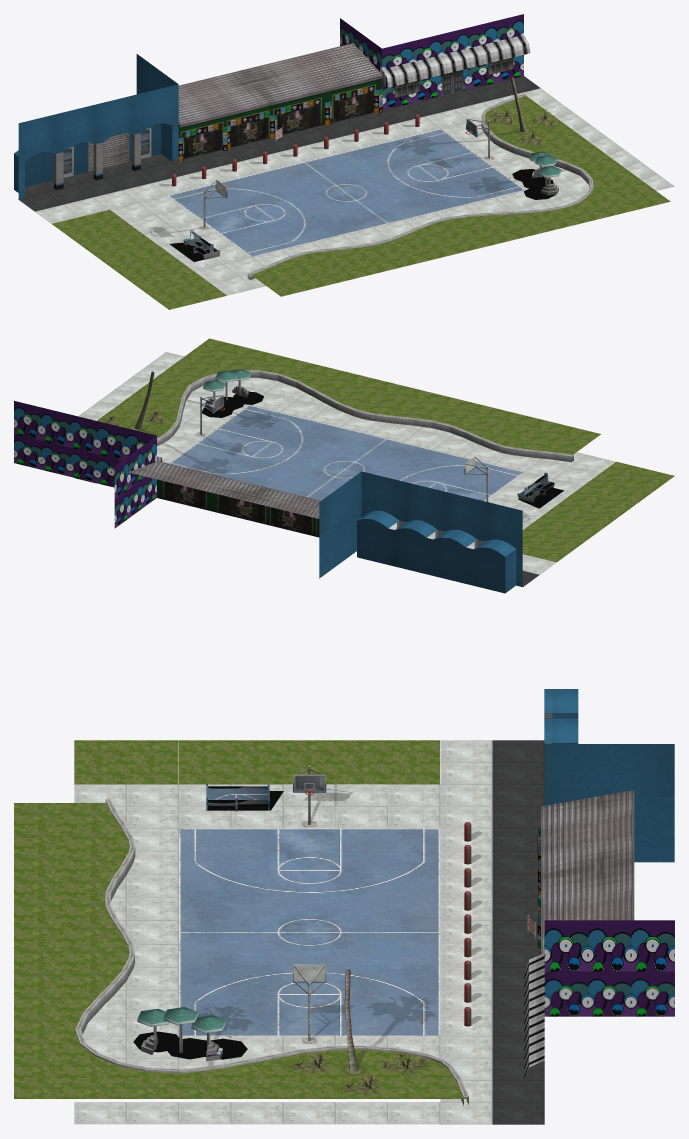
The model's file is court_venice_mesh.fbx.
The picture shows the model from 3 angles, top to bottom: view 1: azimuth 30°, elevation 25°; view 2: azimuth 150°, elevation 25°; view 3: azimuth 270°, elevation 25°; orthographic projection. The views are drawn at different scales.
Parts seen in each view (by area): view 1: court_venice_mesh; view 2: court_venice_mesh; view 3: court_venice_mesh.
Boxes of the visible parts, left/top/right/bottom form: court_venice_mesh: left=14, top=14, right=674, bottom=309; court_venice_mesh: left=14, top=338, right=674, bottom=593; court_venice_mesh: left=14, top=689, right=674, bottom=1124.
Size of the model in its own units: 174 by 25.38 by 126.
